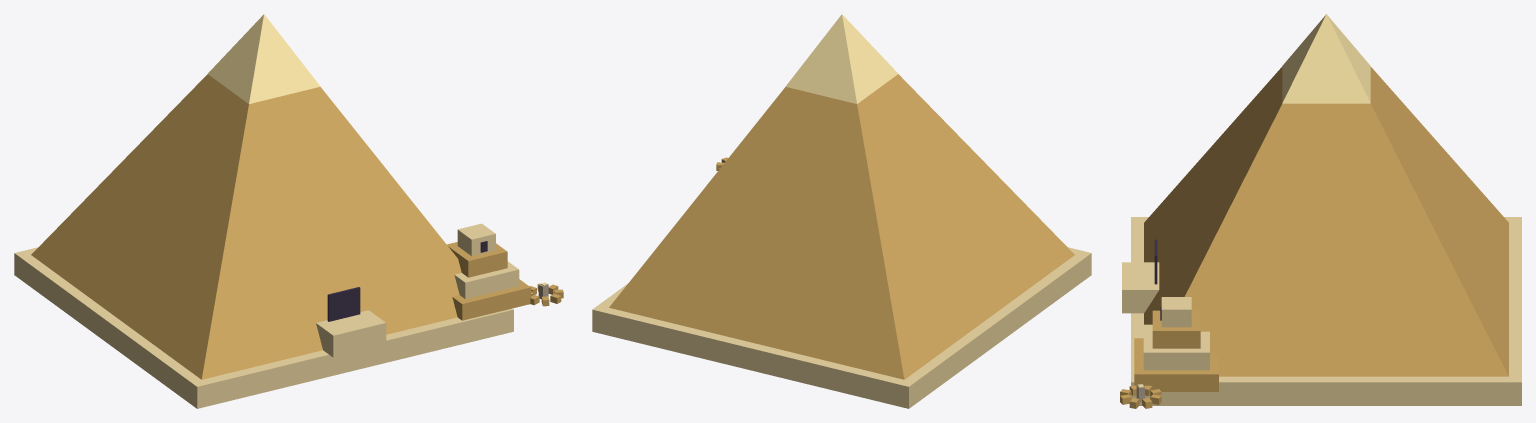
The model's file is sand-g2.glb.
3 views of the same model, side by side, from view 1: azimuth 30°, elevation 25°; view 2: azimuth 150°, elevation 25°; view 3: azimuth 270°, elevation 25° (orthographic). The views are drawn at different scales.
Parts seen in each view (by area): view 1: sand-g2; view 2: sand-g2; view 3: sand-g2.
Part boxes in pixels (x1,y1,x2,y2): sand-g2: (14, 14, 563, 408); sand-g2: (592, 14, 1091, 408); sand-g2: (1120, 14, 1521, 408).
Bounding box in the file's own units: 3.49 × 2.62 × 3.09.
